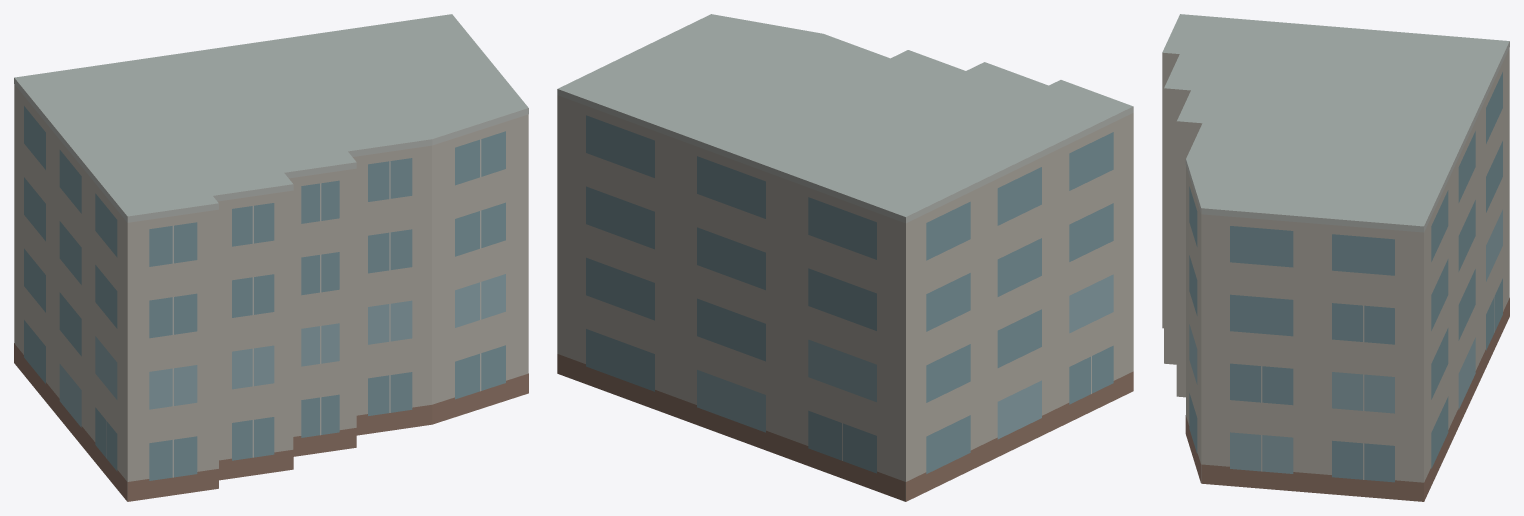
The model's file is survey-upis-32665742.glb.
The picture shows the model from 3 angles, left to right: view 1: azimuth 30°, elevation 25°; view 2: azimuth 150°, elevation 25°; view 3: azimuth 270°, elevation 25°; orthographic projection. The views are drawn at different scales.
Parts seen in each view (by area): view 1: survey-upis-32665742.tmp; view 2: survey-upis-32665742.tmp; view 3: survey-upis-32665742.tmp.
Boxes of the visible parts, x1,y1,x2,y2 form: survey-upis-32665742.tmp: (14, 14, 528, 501); survey-upis-32665742.tmp: (557, 14, 1133, 501); survey-upis-32665742.tmp: (1162, 14, 1509, 501).
Bounding box in the file's own units: 18.2 × 11 × 12.59.
